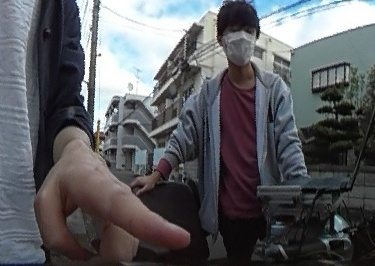person: (192, 0, 309, 264)
